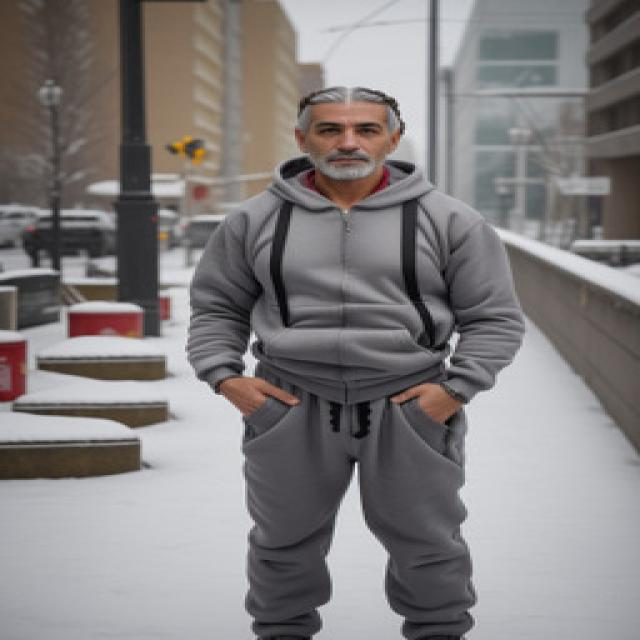Ai human 2: (166, 76, 551, 640)
